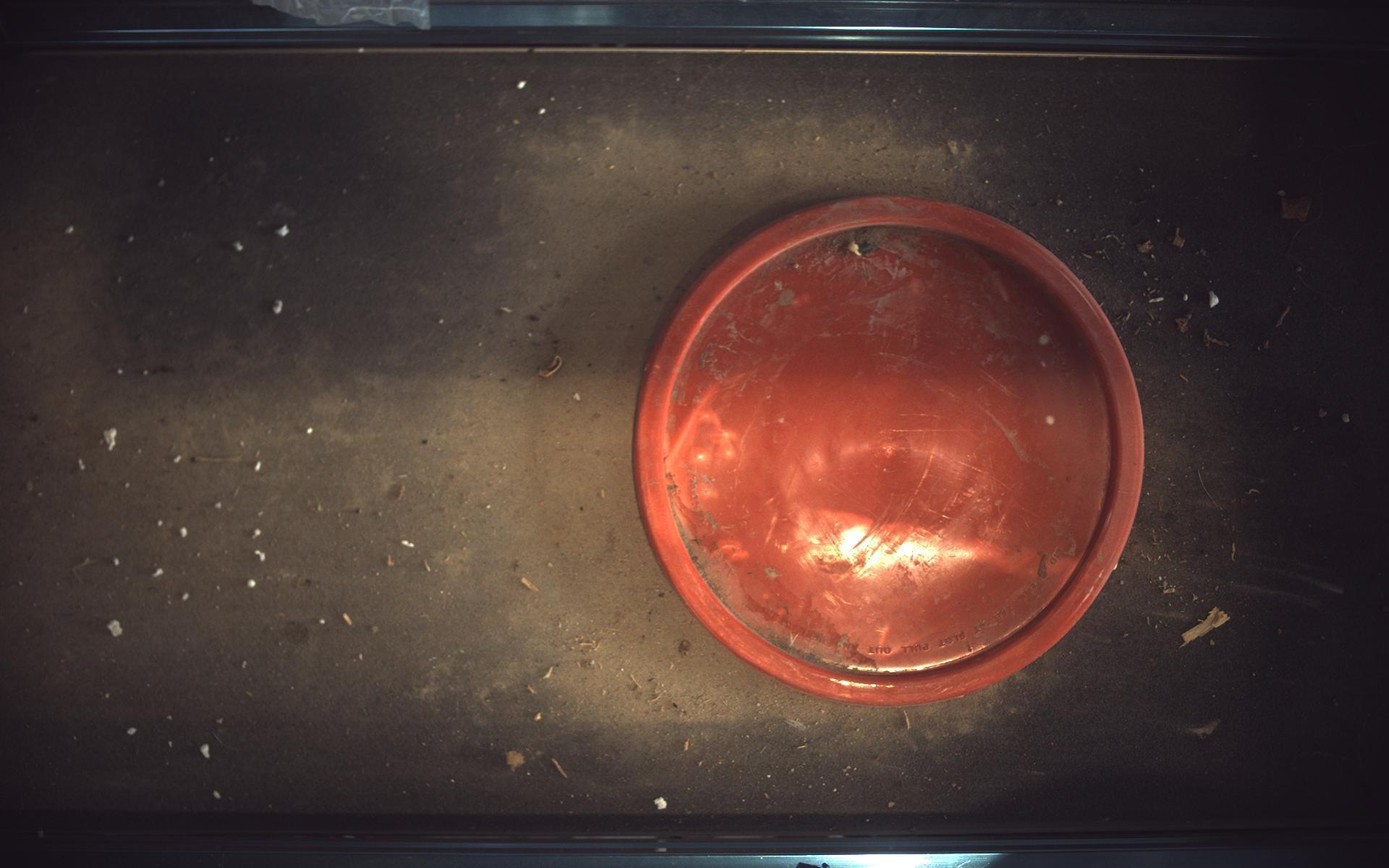plastic: (636, 197, 1146, 706)
